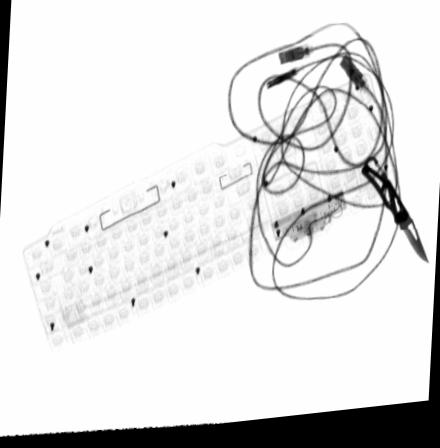Knife: (360, 161, 430, 277)
